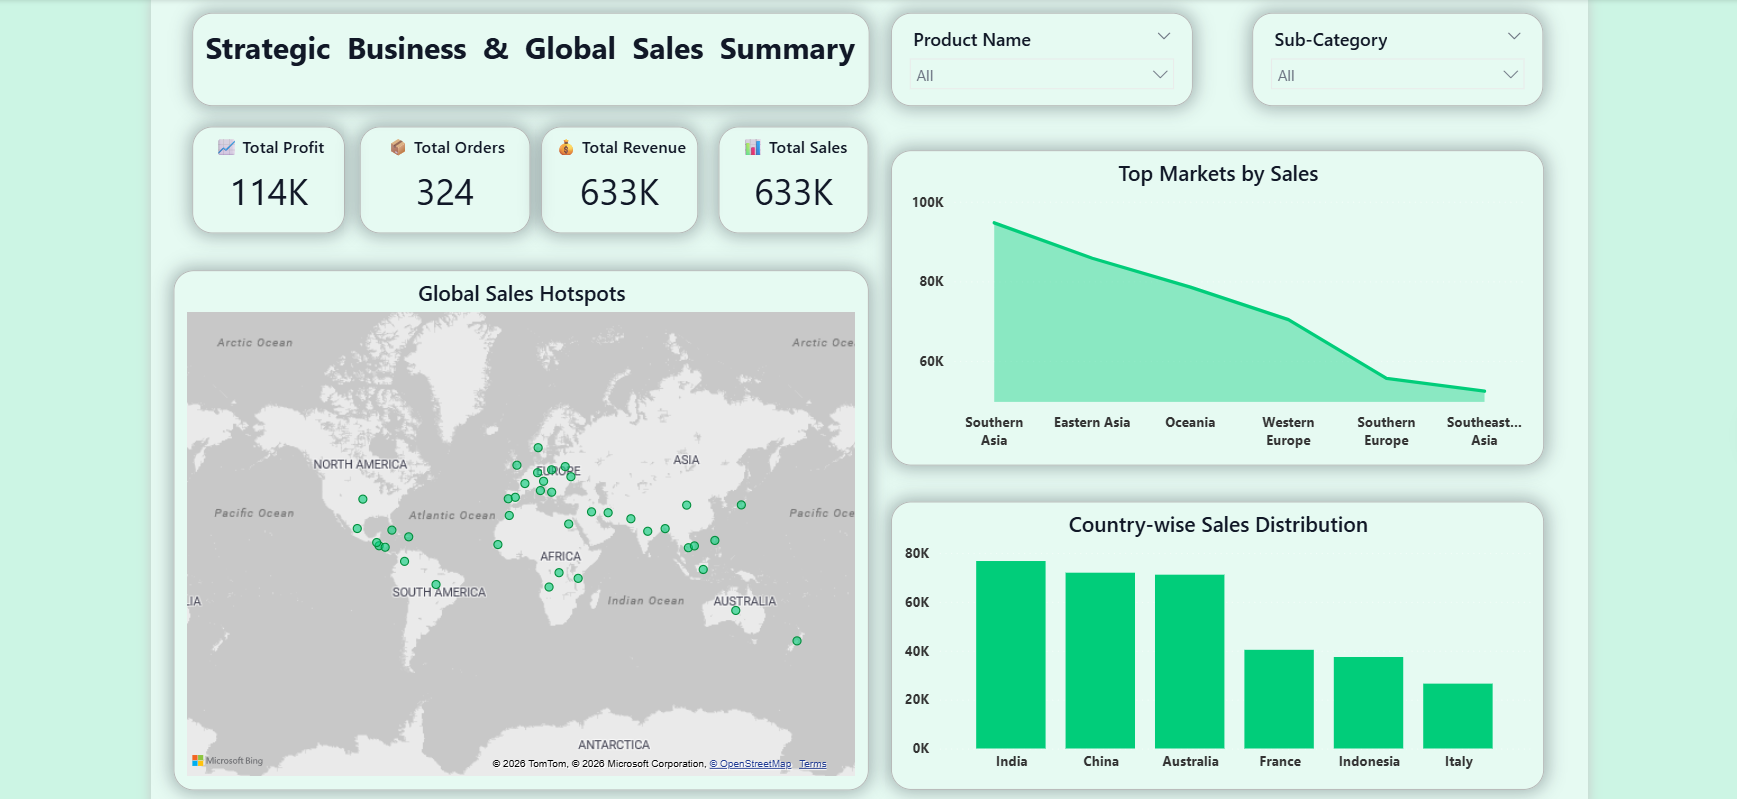

Layout of this report page (visuals, bound fields, positions):
{"tool":"powerbi","page":{"name":"Page 1","canvas":[1280,720],"ordinal":0},"visuals":[{"type":"textbox","box":[36.2,12.1,603.2,83.2],"z":0},{"type":"card","title":"📈 Total Profit","fields":{"Values":["All_Measures.Total Profit"]},"box":[36.2,113.4,136.3,95.3],"z":1000},{"type":"card","title":"📦 Total Orders","fields":{"Values":["All_Measures.Total Orders"]},"box":[185.8,113.4,152,95.3],"z":2000},{"type":"card","title":"💰 Total Revenue","fields":{"Values":["All_Measures.Total Revenue"]},"box":[347.5,113.4,139.9,95.3],"z":3000},{"type":"card","title":"📊 Total Sales","fields":{"Values":["Sum(Fact_Sales.Sales)"]},"box":[505.5,113.4,133.9,95.3],"z":4000},{"type":"columnChart","title":"Country-wise Sales Distribution","fields":{"Category":["Dim_Geography.Country"],"Y":["Sum(Fact_Sales.Sales)"]},"box":[658.7,447.6,581.5,257],"z":5000},{"type":"slicer","fields":{"Values":["Dim_Product.Sub-Category"]},"box":[980.8,12.1,259.4,83.2],"z":6000},{"type":"areaChart","title":"Top Markets by Sales","fields":{"Category":["Dim_Geography.Region"],"Y":["Sum(Fact_Sales.Sales)"]},"box":[658.7,135.1,581.5,281.1],"z":7000},{"type":"slicer","fields":{"Values":["Dim_Product.Product Name"]},"box":[658.7,12.1,269,83.2],"z":8000},{"type":"map","title":"Global Sales Hotspots ","fields":{"Category":["Dim_Geography.Country"]},"box":[20.5,241.3,618.9,463.3],"z":9000}]}

Visuals, with their boxes on the page's 1280x720 design canvas (x1, y1, x2, y2). These are canvas units, not pixel positions in the 1737x799 screenshot, which may show the page scaled, cropped or inside an application window:
textbox: 36 12 639 95
"📈 Total Profit" card: 36 113 172 209
"📦 Total Orders" card: 186 113 338 209
"💰 Total Revenue" card: 348 113 487 209
"📊 Total Sales" card: 506 113 639 209
"Country-wise Sales Distribution" columnChart: 659 448 1240 705
slicer - Dim_Product.Sub-Category: 981 12 1240 95
"Top Markets by Sales" areaChart: 659 135 1240 416
slicer - Dim_Product.Product Name: 659 12 928 95
"Global Sales Hotspots " map: 20 241 639 705
